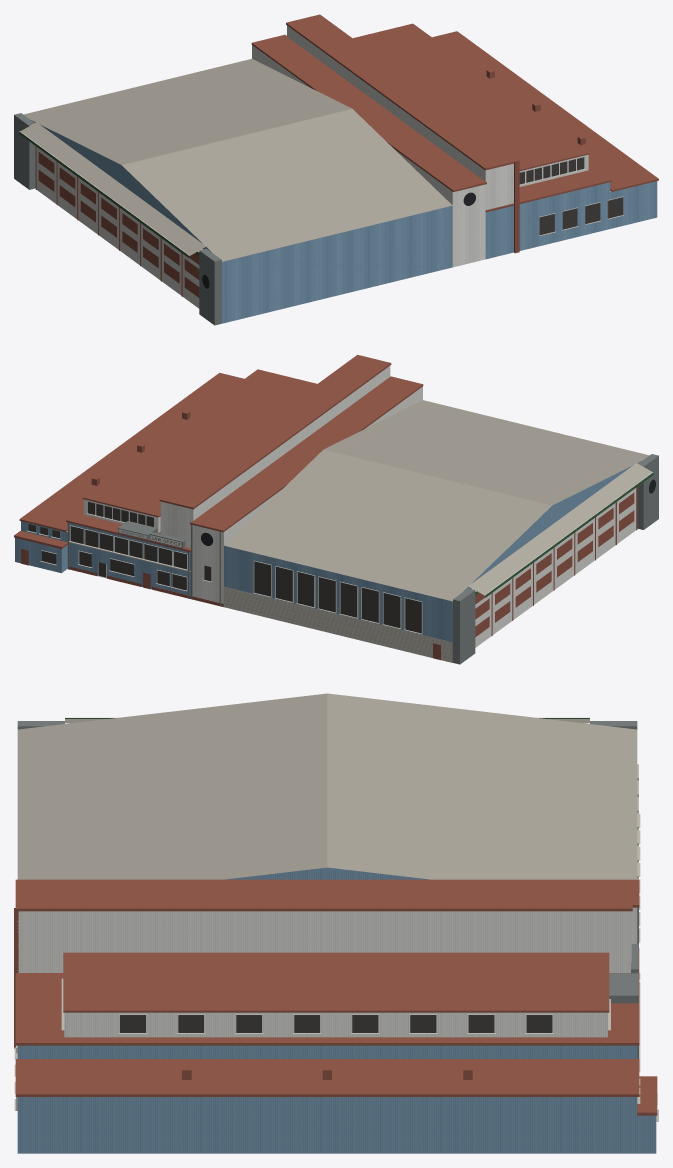
The model's file is cyxd_hangar8_lod1.gltf.
3 renders of one model, top to bottom at view 1: azimuth 30°, elevation 25°; view 2: azimuth 150°, elevation 25°; view 3: azimuth 270°, elevation 25°, orthographic. The views are drawn at different scales.
Visible parts, largest first — view 1: cyxd_hangar8; view 2: cyxd_hangar8; view 3: cyxd_hangar8.
Part boxes in pixels (x1,y1,x2,y2): cyxd_hangar8: (14, 14, 658, 325); cyxd_hangar8: (14, 355, 658, 664); cyxd_hangar8: (14, 693, 658, 1153).
Size of the model in its own units: 69.1 by 13.25 by 55.04.
